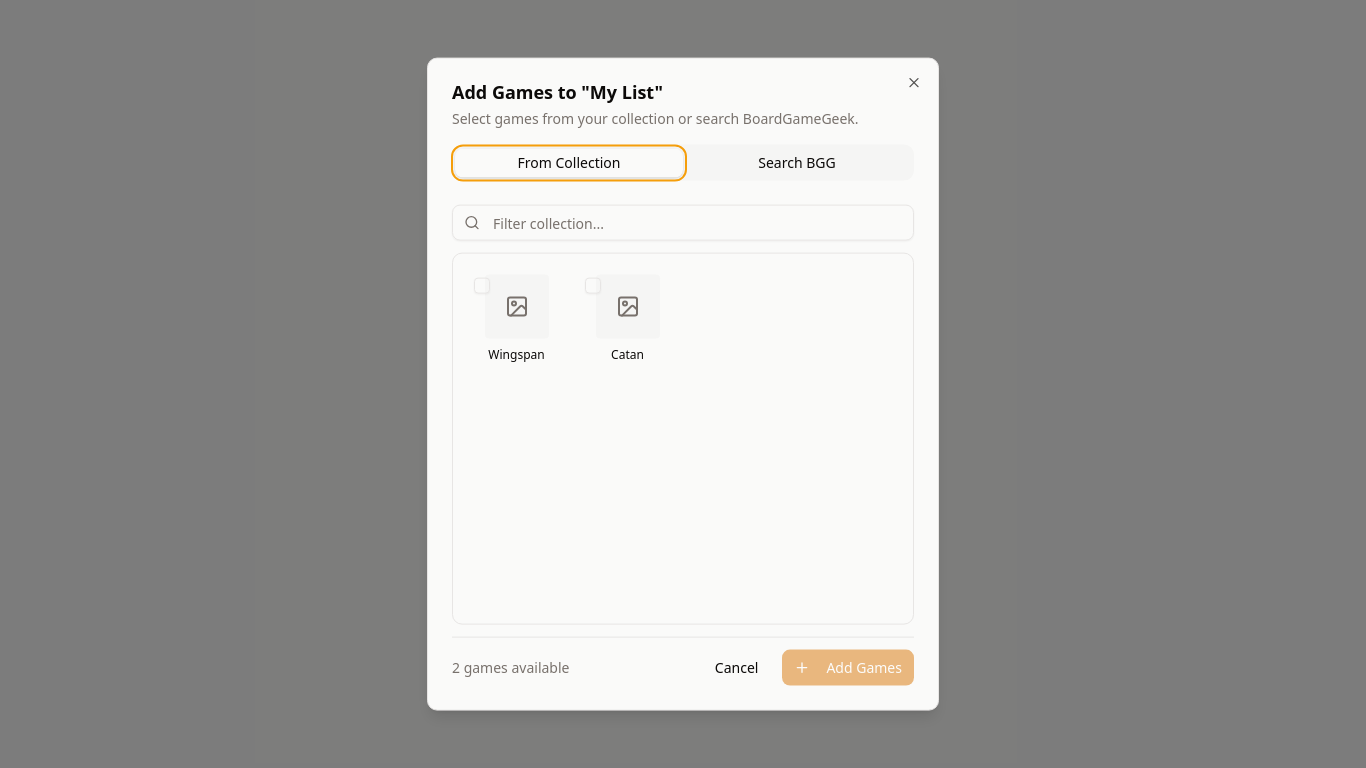
Test: AddGamesToListDialog › collection tab › should filter collection games
Expected: the text "Wingspan" is shown, [488,346,545,363]
Type "wing" into the field with placeholder "Filter collection..." at point(683, 223), box [452,205,914,241]
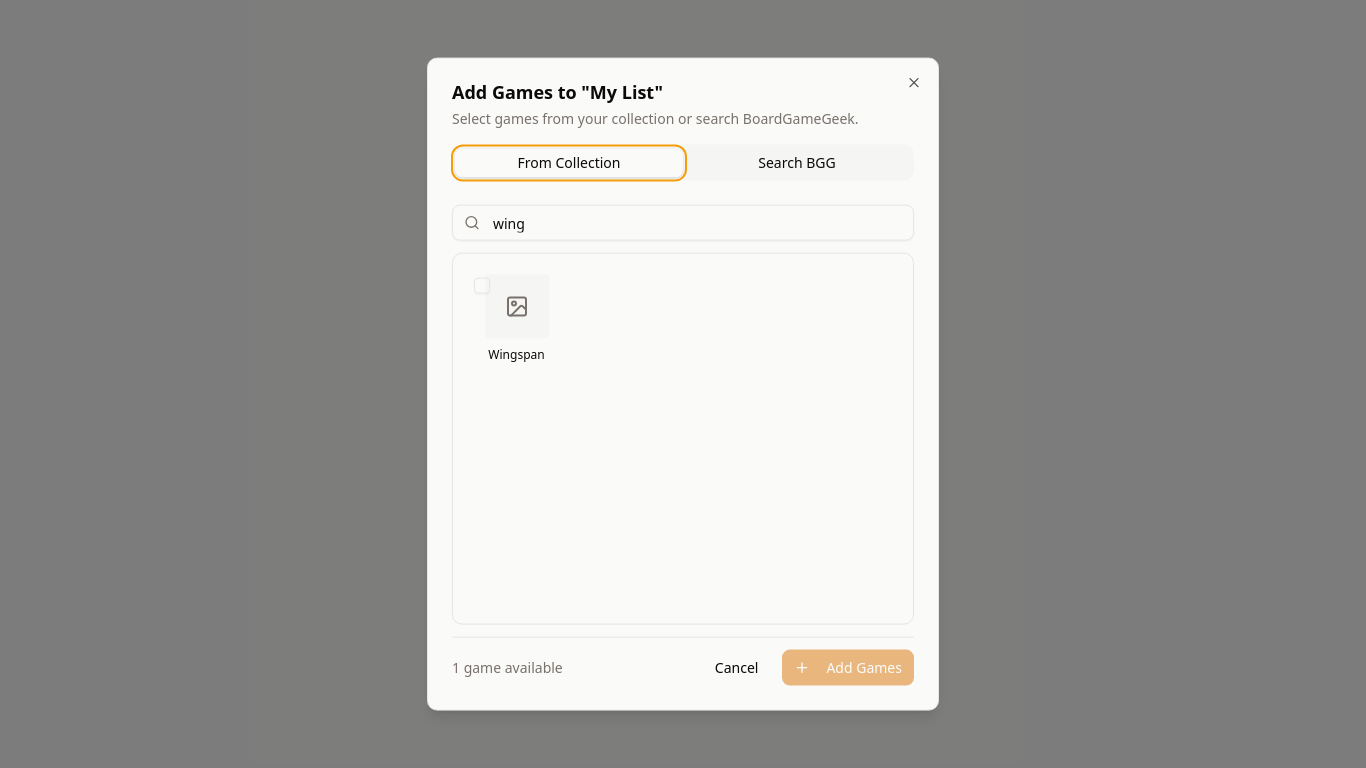
Expected: the text "Wingspan" is shown, [488,346,545,363]
Result: the button "Catan" is gone
